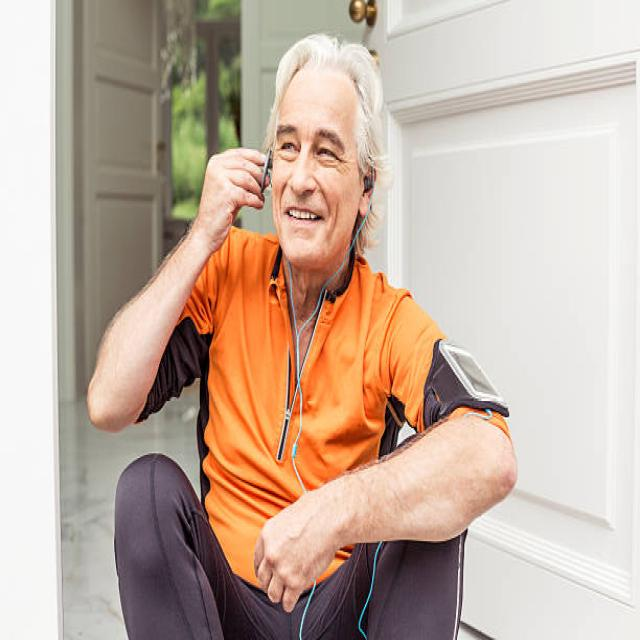Earphone: (259, 146, 377, 466)
